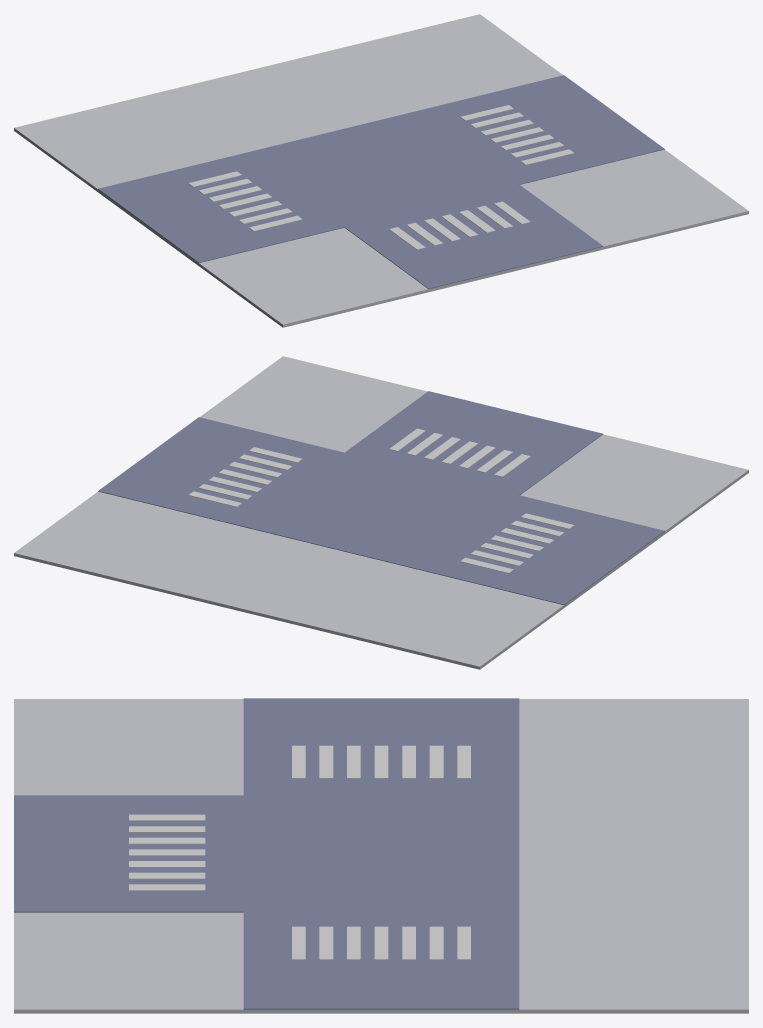
Rendered from 18_roads_plazas-03.glb.
3 views of the same model, one above another, from view 1: azimuth 30°, elevation 25°; view 2: azimuth 150°, elevation 25°; view 3: azimuth 270°, elevation 25° (orthographic). The views are drawn at different scales.
Bounding box in the file's own units: 24 × 0.22 × 24.
